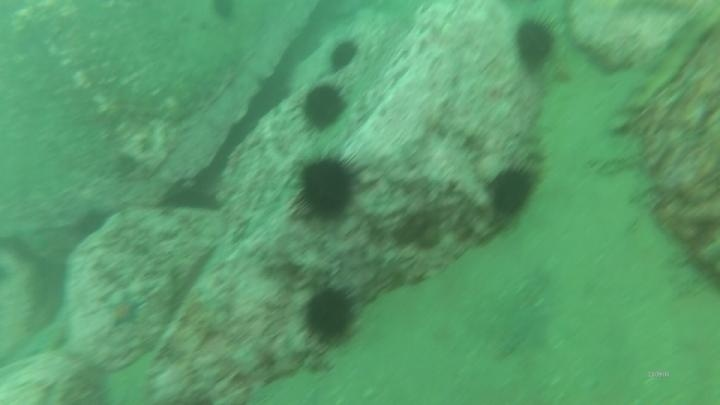echinus: (290, 151, 366, 225), (298, 282, 362, 348), (485, 162, 540, 222), (511, 16, 559, 74), (298, 81, 349, 133), (325, 37, 361, 74), (208, 0, 240, 24)
holothurian: (614, 11, 718, 133)
starfish: (102, 290, 147, 330)
